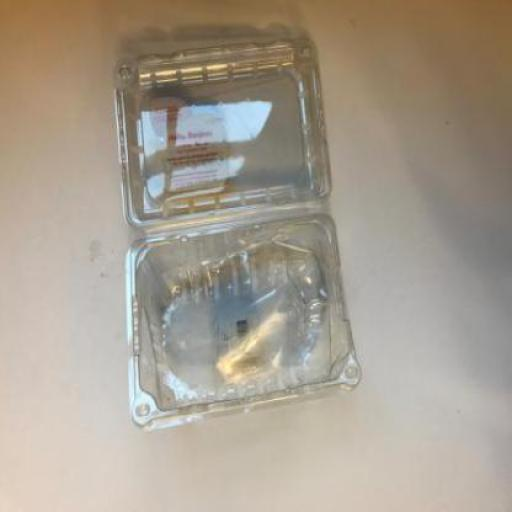plastic: (113, 37, 361, 427), (125, 213, 361, 427), (111, 36, 332, 230)
